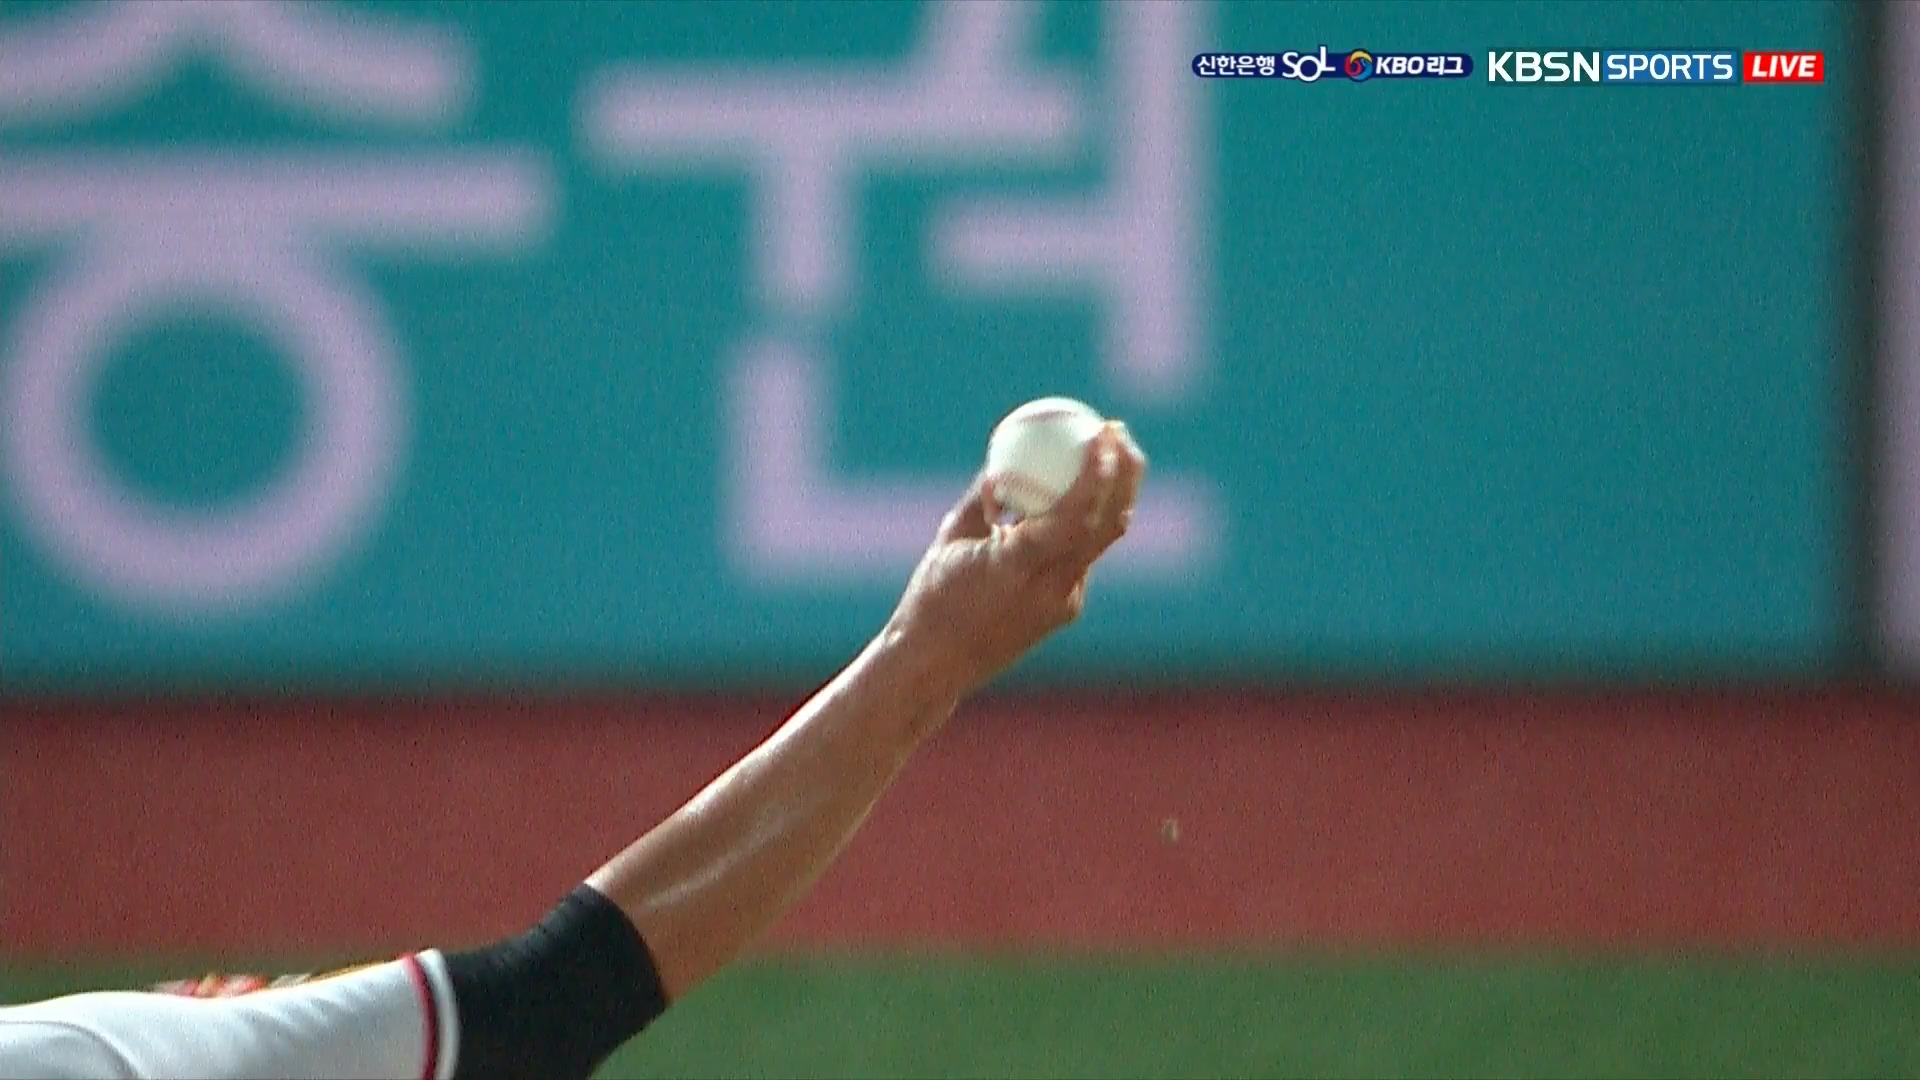zoomin_hand: (538, 393, 1151, 1080)
